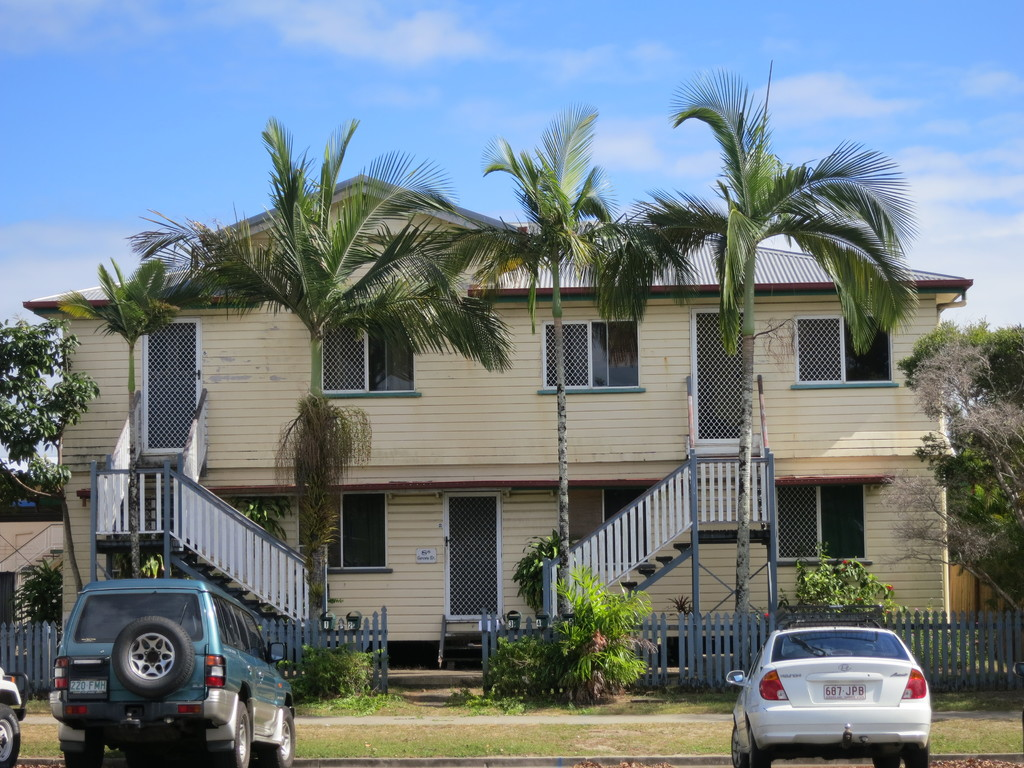Car: (43, 575, 300, 767), (723, 613, 931, 764), (0, 674, 26, 767)
